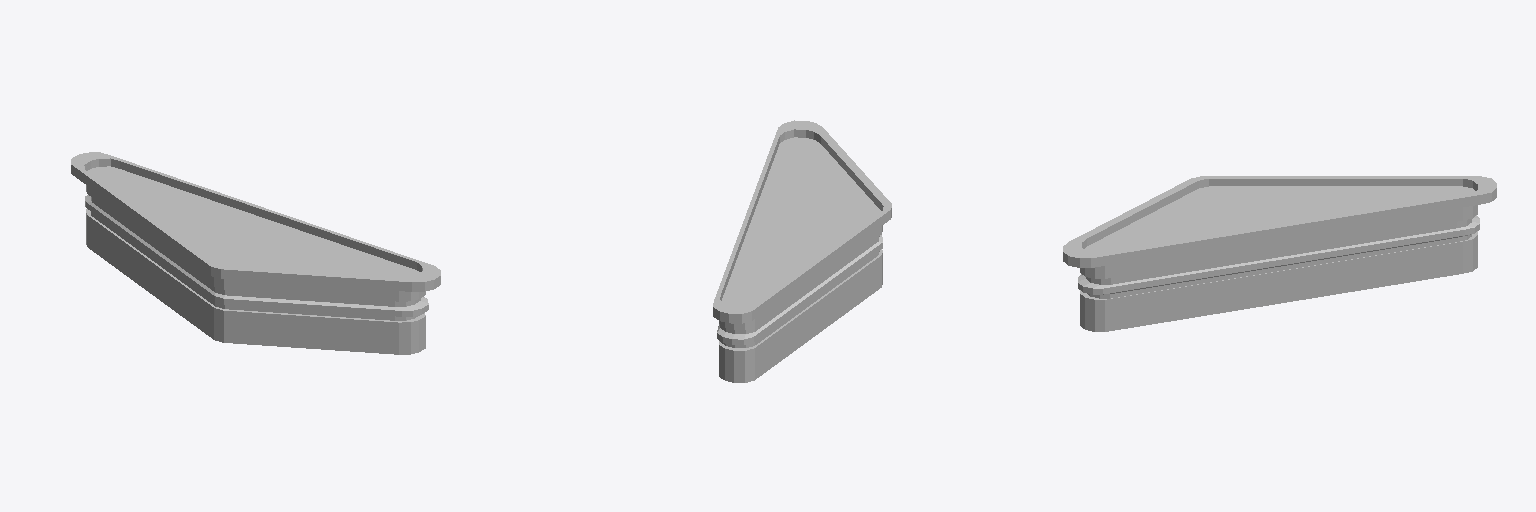
The model's file is slingshot_l.obj.
3 views of the same model, side by side, from view 1: azimuth 30°, elevation 25°; view 2: azimuth 150°, elevation 25°; view 3: azimuth 270°, elevation 25° (orthographic).
Parts seen in each view (by area): view 1: Slingshot_L_03:Mesh2; view 2: Slingshot_L_03:Mesh2; view 3: Slingshot_L_03:Mesh2.
Boxes of the visible parts, x1,y1,x2,y2 form: Slingshot_L_03:Mesh2: [71, 152, 440, 354]; Slingshot_L_03:Mesh2: [713, 120, 891, 382]; Slingshot_L_03:Mesh2: [1063, 176, 1496, 331].
Bounding box in the file's own units: 1.15 × 0.5021 × 2.55.